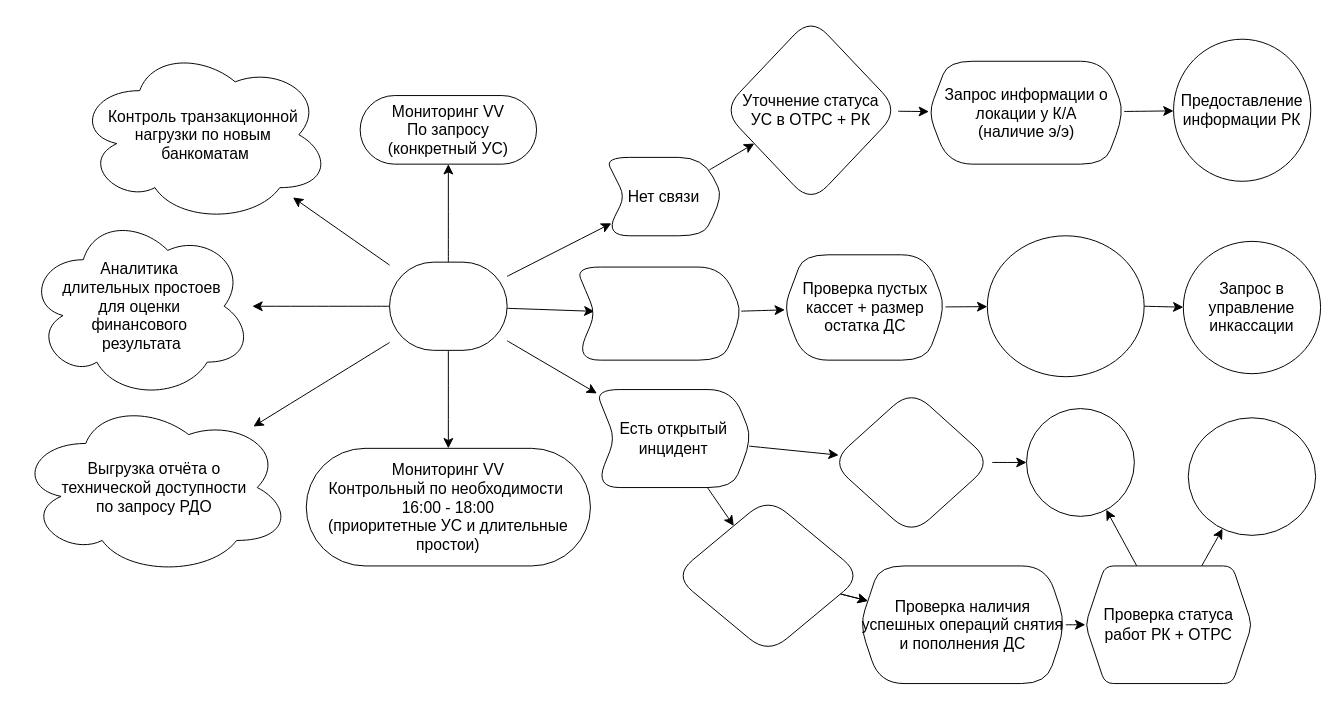
The diagram is 1338 pixels wide and 701 high, and some of its shapes have lost their labels. The centre of each missing label's shape, as x and y in pixels:
"Длительный (свыше 3-х дней)" goes at [767,575].
"Инцидент не актуальный (закрывают)" goes at [1251,476].
"Контроль в почте наличия заявки на инкассацию по ID (дата)" goes at [1065,306].
"Минимальный остаток" goes at [658,313].
"Мониторинг VV Обязательный 09:00 - 11:00 (вся сеть)" goes at [448,305].
"На контроль" goes at [1080,462].
"Новый" goes at [911,462].
